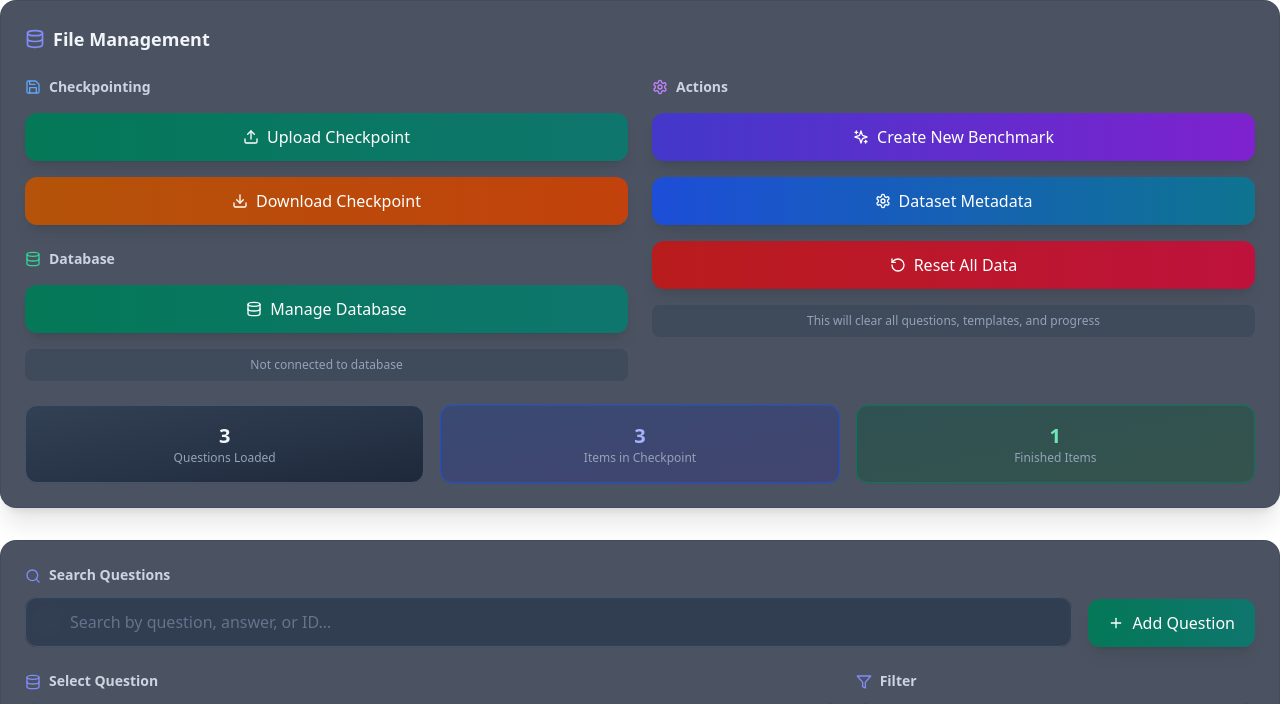
Test case: Question Navigation Integration Tests › integ-011: Question search and filter by status › should search questions by question text
The image size is (1280, 704).
Note: Enter search term
In the field with placeholder "Search by question, answer, or ID...": (549, 622) left=25, top=597, right=1072, bottom=647, type "Shakespeare"
(page scrolled)
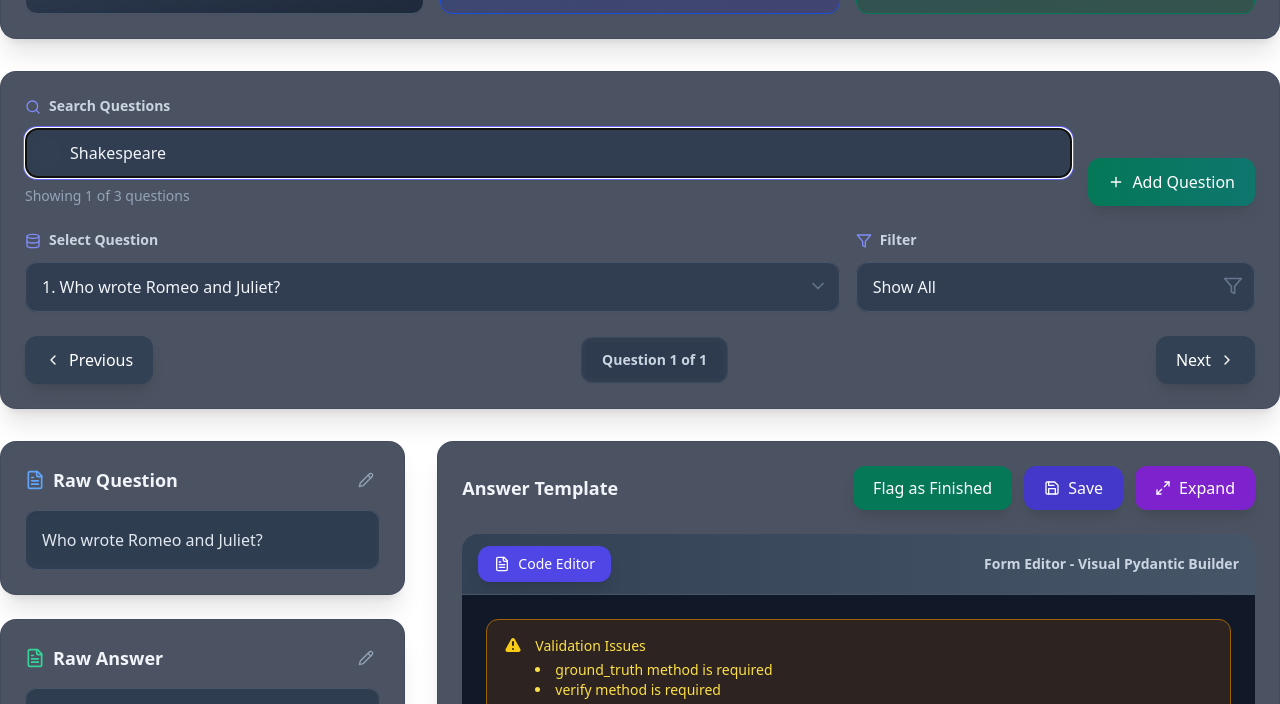
Check: the text "Question 1 of 1" is shown, box left=602, top=350, right=707, bottom=370
